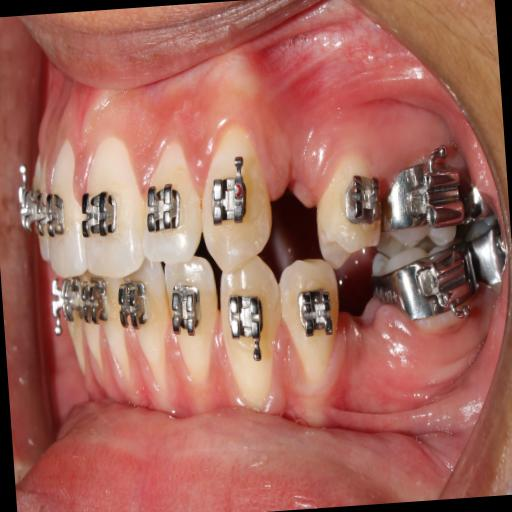correct_brace: (308, 149, 385, 267), (79, 180, 119, 244), (144, 179, 184, 239), (208, 172, 248, 228)
incorrect_brace: (140, 140, 204, 265), (343, 167, 383, 226)
